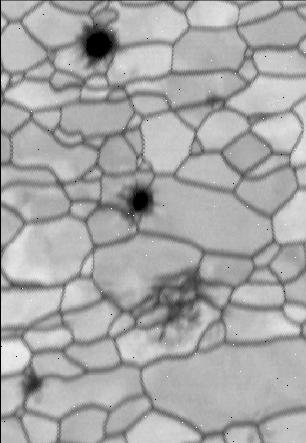good_void: (119, 259, 215, 350), (67, 18, 131, 76), (14, 354, 47, 412), (119, 180, 161, 218), (193, 86, 239, 115)
